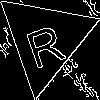R: (19, 14, 67, 70)
